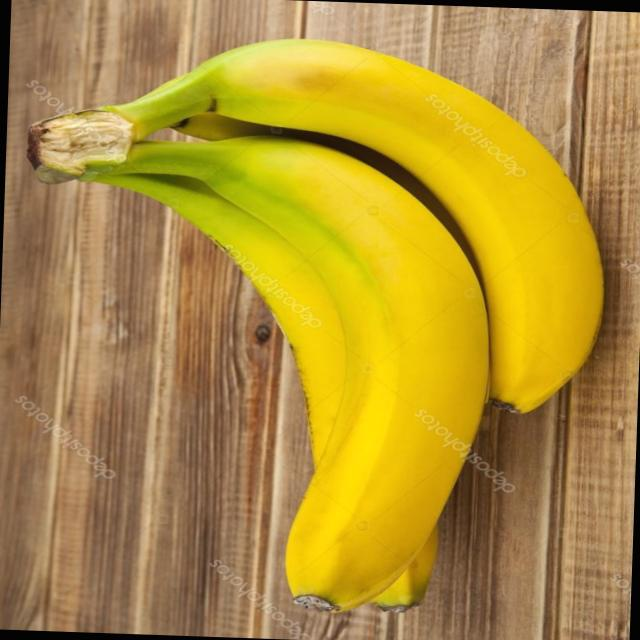Platano: (2, 22, 621, 627)
